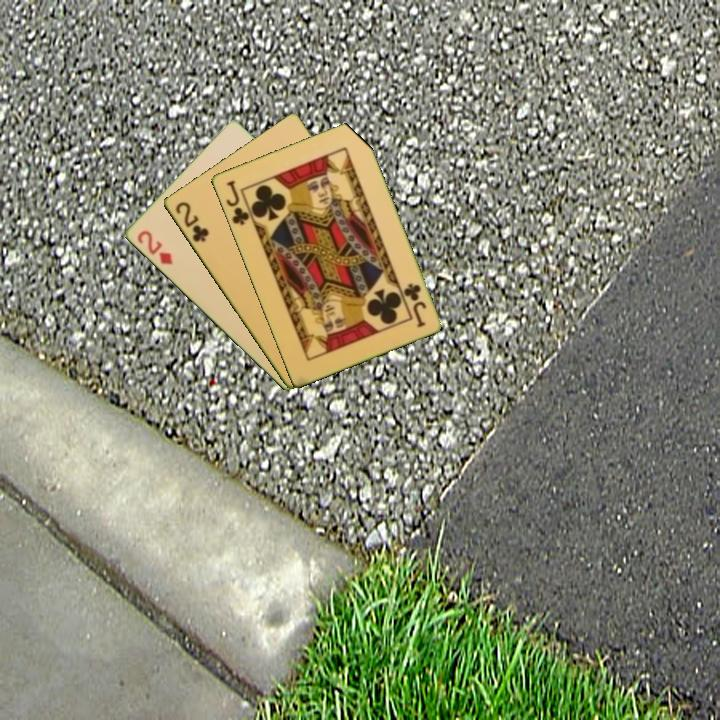2c: (171, 198, 212, 245)
2d: (133, 227, 175, 268)
Jc: (222, 177, 256, 228), (400, 279, 429, 330)
